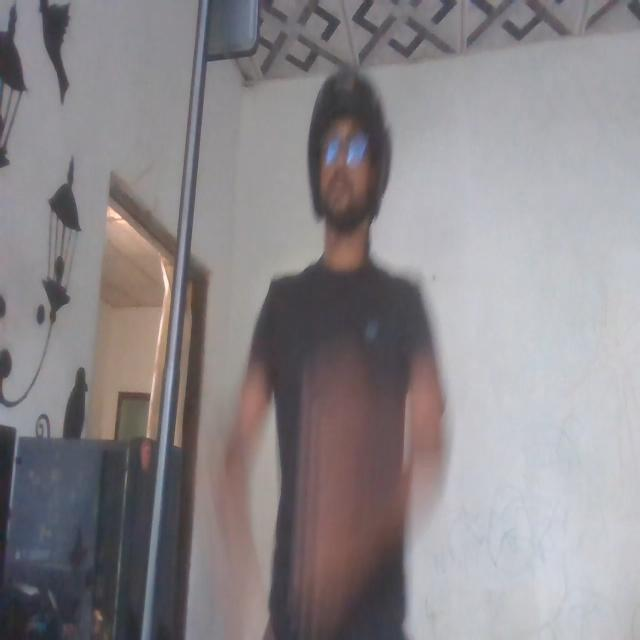Helmet_Wearer: (297, 62, 395, 251)
Person: (246, 64, 434, 640)
